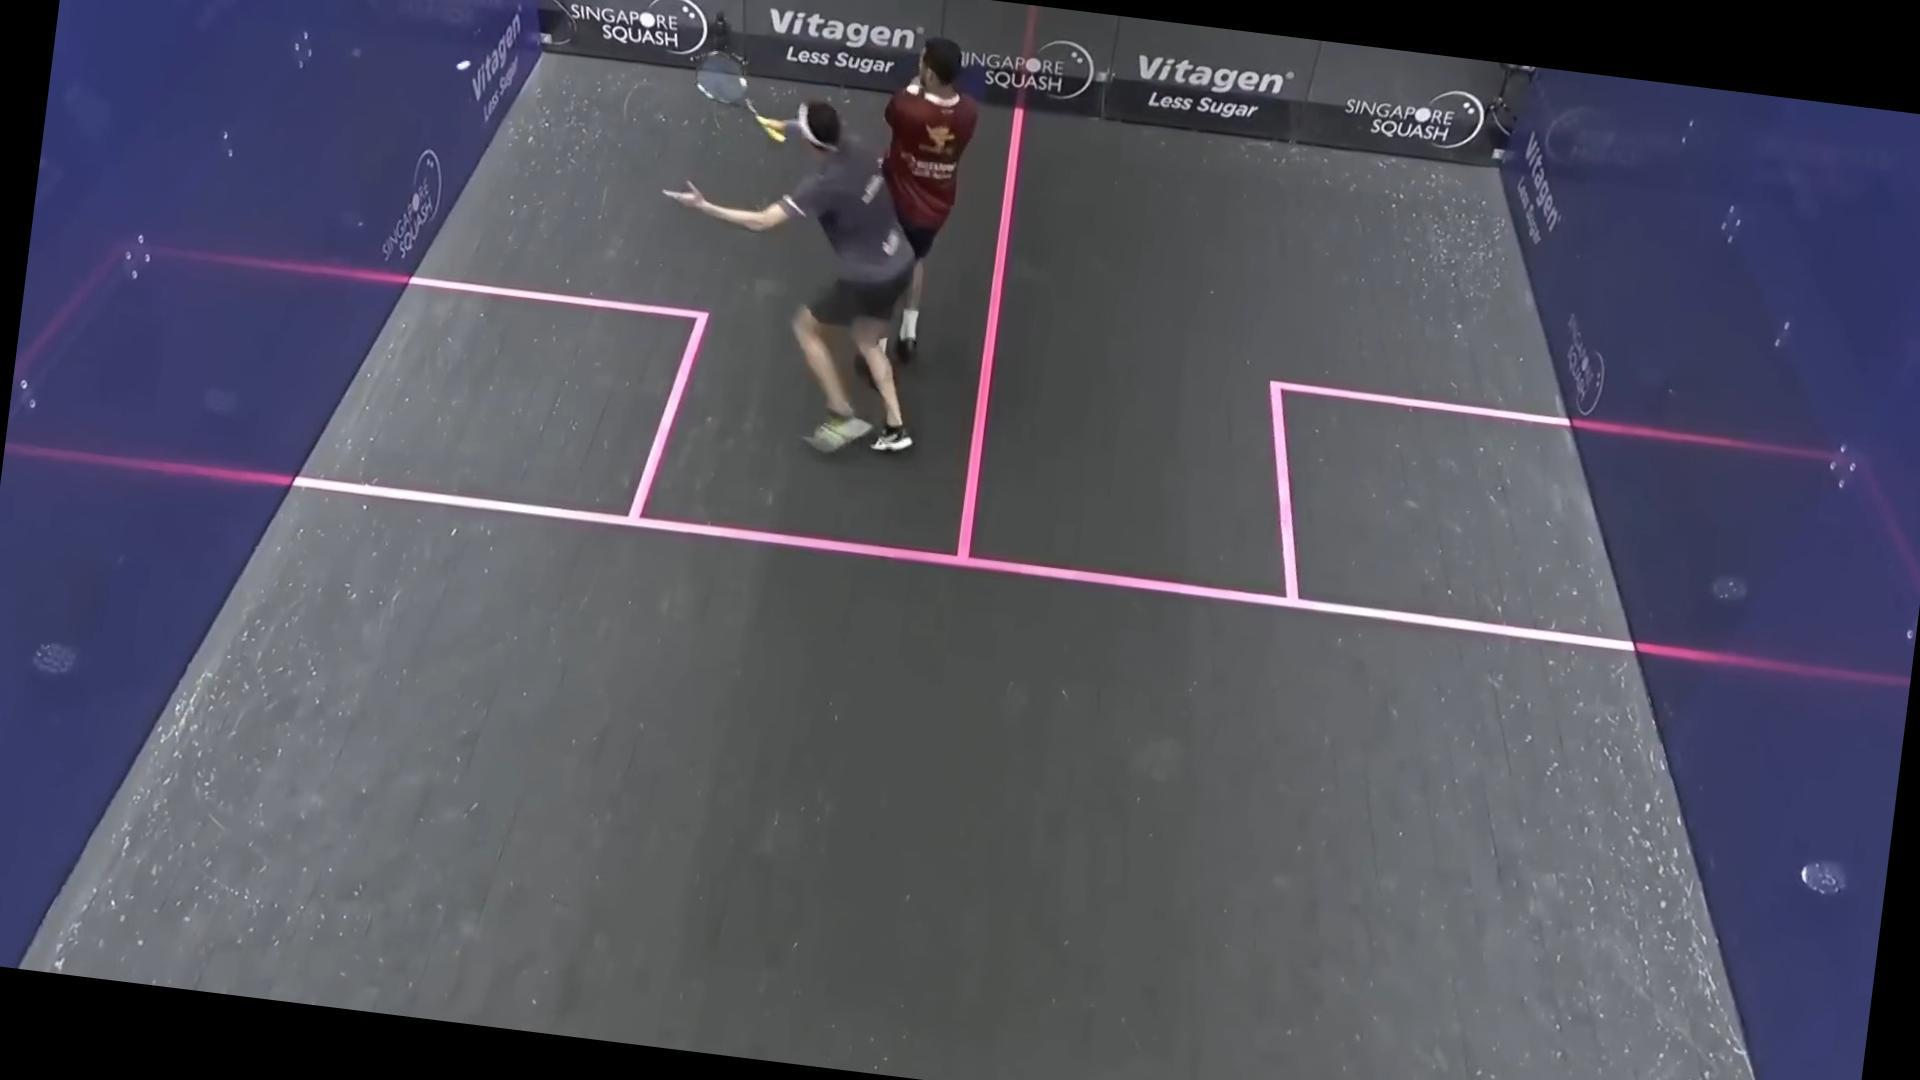Squash-Ball: (430, 29, 492, 99)
